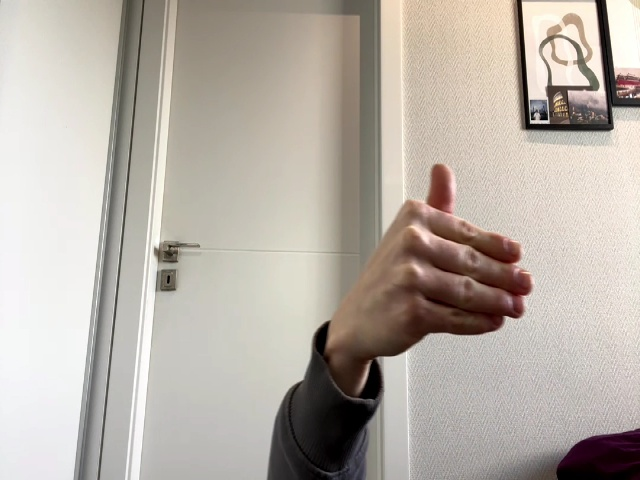M: (358, 164, 534, 378)
